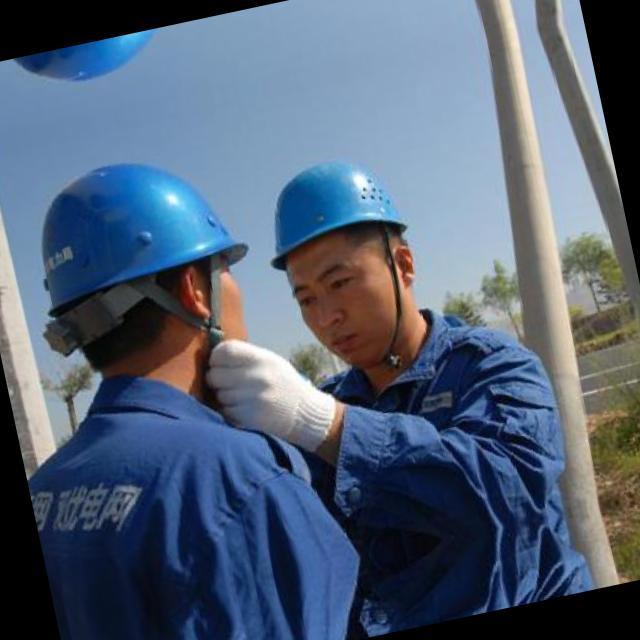helmet: (0, 125, 267, 421), (228, 128, 446, 396), (0, 20, 203, 118)
